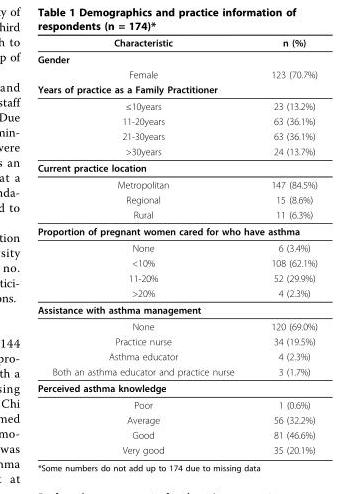table: (36, 36, 316, 455)
table column: (36, 36, 252, 455), (252, 36, 316, 455)
table column header: (36, 36, 316, 50)
table projected row header: (36, 159, 316, 176), (36, 222, 316, 239), (36, 379, 316, 396), (36, 50, 316, 66), (36, 81, 316, 97), (36, 301, 316, 317)
table row: (36, 159, 316, 176), (36, 222, 316, 239), (36, 379, 316, 396), (36, 50, 316, 66), (36, 81, 316, 97), (36, 97, 316, 113), (36, 143, 316, 159), (36, 206, 316, 222), (36, 239, 316, 255), (36, 285, 316, 301), (36, 301, 316, 317), (36, 317, 316, 333), (36, 363, 316, 379), (36, 396, 316, 412), (36, 66, 316, 81), (36, 113, 316, 128), (36, 128, 316, 143), (36, 176, 316, 191), (36, 191, 316, 206), (36, 255, 316, 270), (36, 270, 316, 285), (36, 333, 316, 348), (36, 348, 316, 363), (36, 412, 316, 427), (36, 427, 316, 442), (36, 36, 316, 50), (36, 442, 316, 455)
